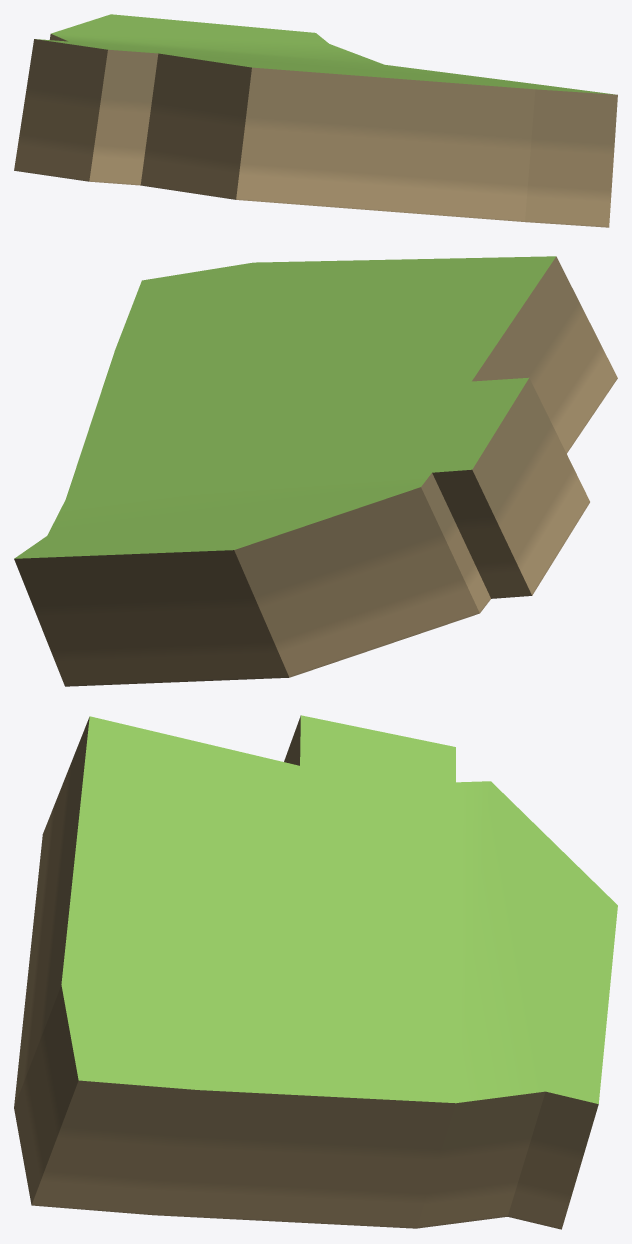
The model's file is 0635_Angola.glb.
3 views of the same model, one above another, from view 1: azimuth 30°, elevation 25°; view 2: azimuth 150°, elevation 25°; view 3: azimuth 270°, elevation 25° (orthographic). The views are drawn at different scales.
Visible parts, largest first — view 1: part_0; view 2: part_0; view 3: part_0.
Part boxes in pixels (x1,y1,x2,y2): part_0: [14, 14, 617, 227]; part_0: [14, 256, 617, 686]; part_0: [14, 715, 617, 1229].
Bounding box in the file's own units: 0.814 × 0.4824 × 0.7177.
Materials: 1 (1 with a texture image).
